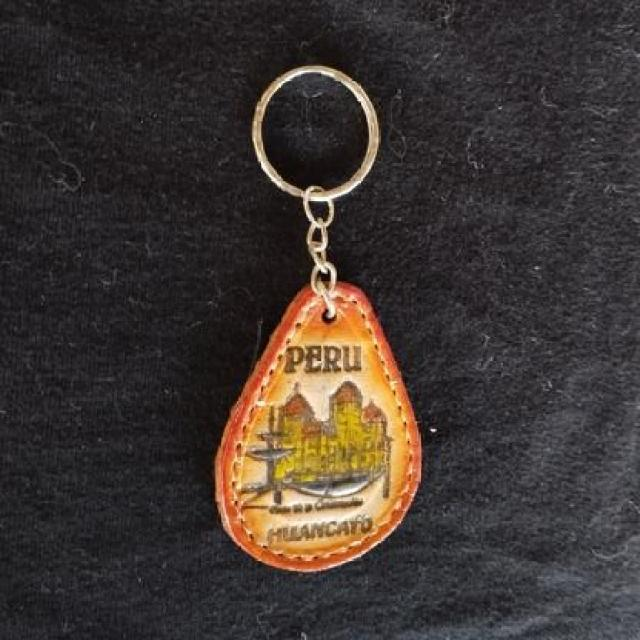Llavero: (212, 278, 423, 574)
